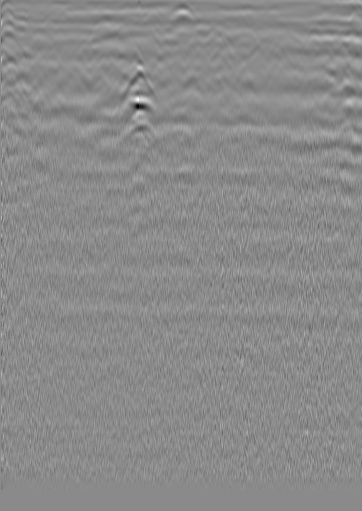가스: (118, 59, 155, 103)
상수: (316, 5, 336, 25)
오수: (21, 20, 41, 40)
우수: (173, 7, 193, 27)
